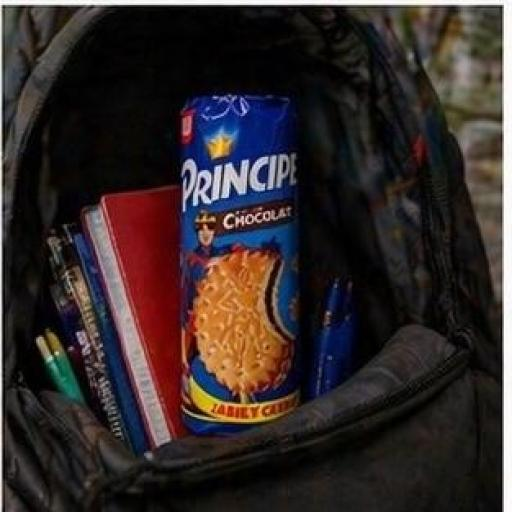prince: (137, 66, 399, 467)
